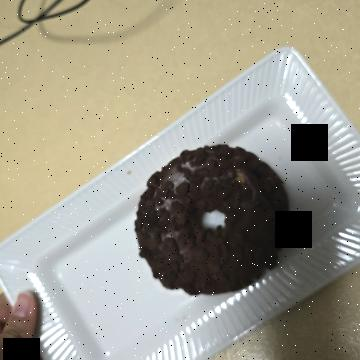doughnut: (146, 51, 328, 241)
